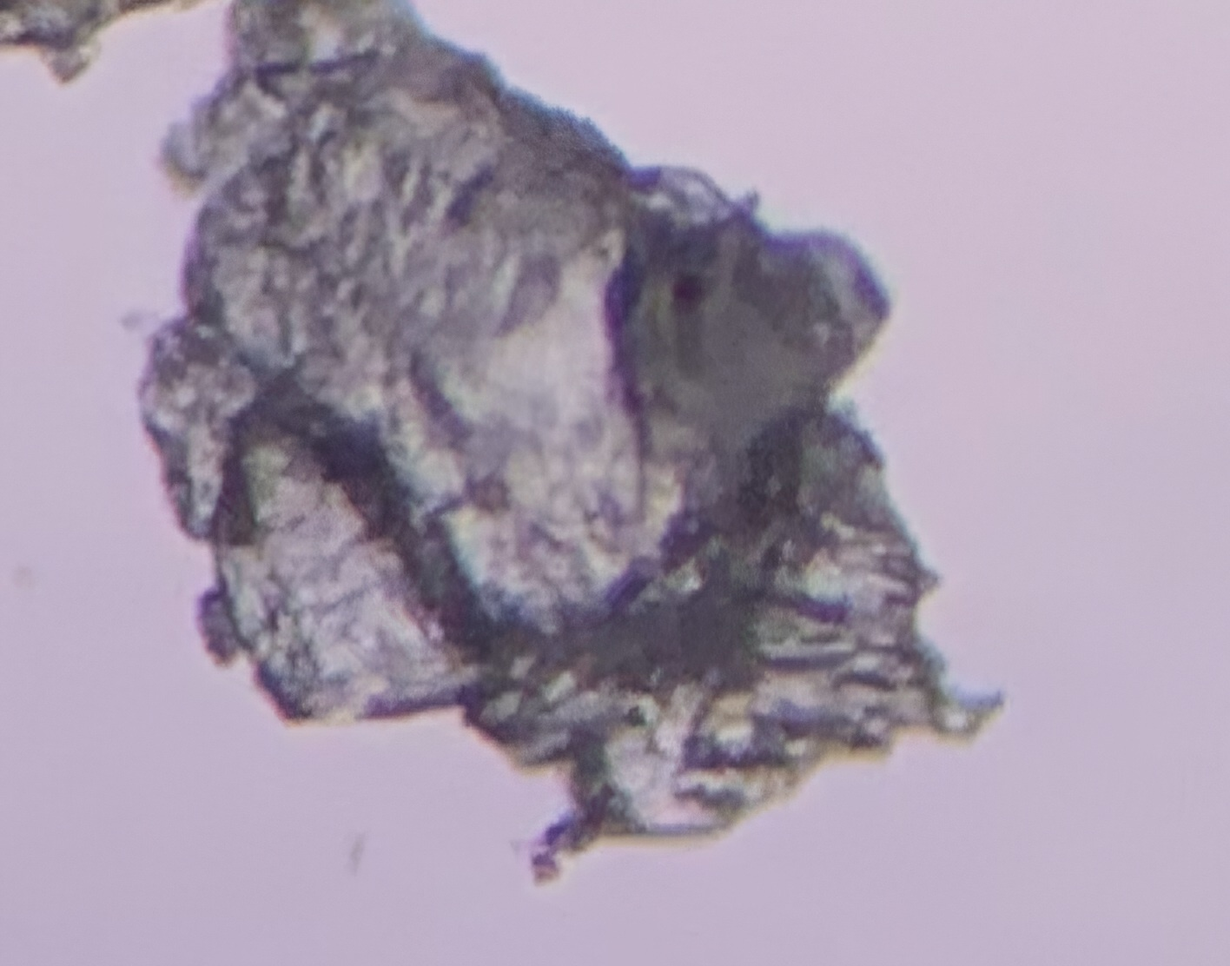microplastic: (136, 1, 1016, 892), (1, 1, 195, 85)
